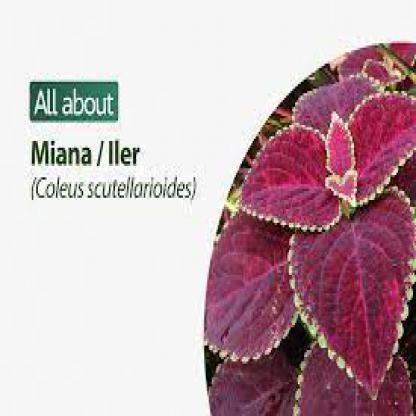Bunga Coleus: (248, 103, 396, 401)
